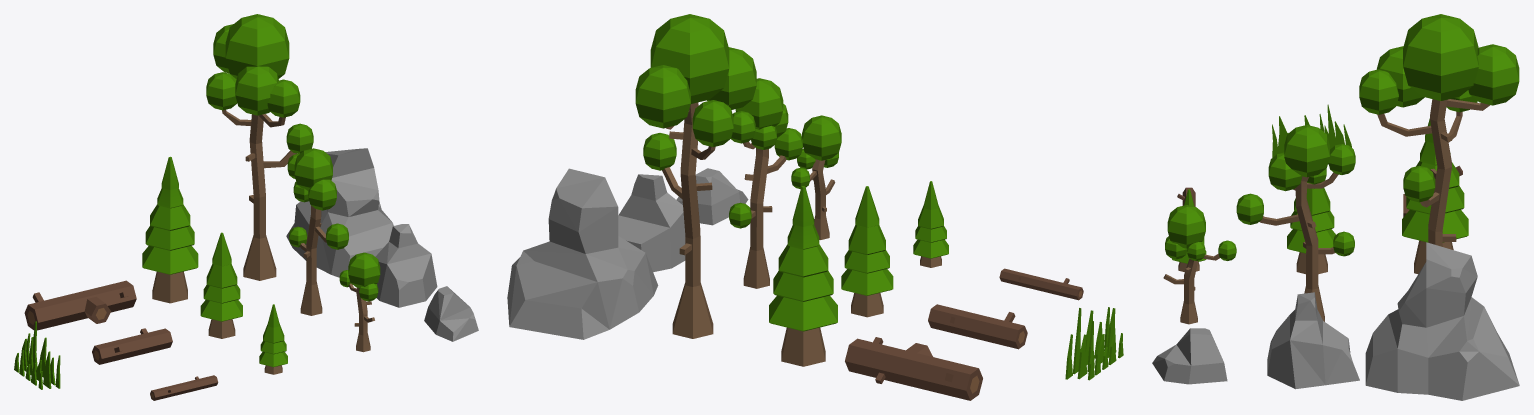
File: LowPolyForestPack.fbx
3 views of the same model, side by side, from view 1: azimuth 30°, elevation 25°; view 2: azimuth 150°, elevation 25°; view 3: azimuth 270°, elevation 25° (orthographic). The views are drawn at different scales.
Parts seen in each view (by area): view 1: LargeRock, LargePineTree, MediumRock, LargeOakTree, LargeLog, Leaves11, MediumPineTree, SmallRock, Leaves13, MediumLog, MediumOakTree, SmallPineTree (+10 smaller); view 2: LargeRock, LargePineTree, LargeOakTree, LargeLog, Leaves11, MediumRock, MediumPineTree, Leaves12, MediumOakTree, MediumLog, SmallPineTree, SmallRock (+9 smaller); view 3: LargeRock, MediumRock, Leaves11, LargeOakTree, LargePineTree, SmallRock, Leaves12, MediumOakTree, MediumPineTree, Leaves1, Leaves14, Leaves7 (+8 smaller).
Boxes of the visible parts, x1=… form: LargeRock: x1=286, y1=148, x2=393, y2=277; LargePineTree: x1=142, y1=156, x2=198, y2=303; MediumRock: x1=375, y1=224, x2=437, y2=307; LargeOakTree: x1=222, y1=109, x2=296, y2=280; LargeLog: x1=24, y1=280, x2=136, y2=330; Leaves11: x1=225, y1=14, x2=289, y2=78; MediumPineTree: x1=200, y1=232, x2=242, y2=338; SmallRock: x1=424, y1=286, x2=478, y2=341; Leaves13: x1=235, y1=66, x2=278, y2=115; MediumLog: x1=92, y1=328, x2=172, y2=364; MediumOakTree: x1=300, y1=205, x2=326, y2=315; SmallPineTree: x1=259, y1=304, x2=287, y2=374; LargeRock: x1=507, y1=168, x2=658, y2=339; LargePineTree: x1=769, y1=186, x2=837, y2=366; LargeOakTree: x1=662, y1=102, x2=715, y2=338; LargeLog: x1=845, y1=337, x2=982, y2=400; Leaves11: x1=650, y1=14, x2=729, y2=103; MediumRock: x1=618, y1=174, x2=685, y2=272; MediumPineTree: x1=841, y1=186, x2=893, y2=317; Leaves12: x1=635, y1=65, x2=690, y2=128; MediumOakTree: x1=743, y1=141, x2=786, y2=288; MediumLog: x1=928, y1=304, x2=1027, y2=349; SmallPineTree: x1=913, y1=181, x2=948, y2=267; SmallRock: x1=676, y1=168, x2=748, y2=225; LargeRock: x1=1365, y1=242, x2=1519, y2=400; MediumRock: x1=1267, y1=292, x2=1359, y2=389; Leaves11: x1=1403, y1=14, x2=1478, y2=100; LargeOakTree: x1=1377, y1=99, x2=1490, y2=246; LargePineTree: x1=1402, y1=118, x2=1468, y2=273; SmallRock: x1=1152, y1=328, x2=1227, y2=384; Leaves12: x1=1468, y1=44, x2=1519, y2=105; MediumOakTree: x1=1259, y1=172, x2=1338, y2=321; MediumPineTree: x1=1287, y1=188, x2=1335, y2=274; Leaves1: x1=1284, y1=125, x2=1329, y2=177; Leaves14: x1=1359, y1=69, x2=1398, y2=114; Leaves7: x1=1167, y1=205, x2=1205, y2=248.
Size of the model in its own units: 47.2 by 27.08 by 29.87.
